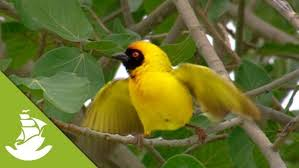target: (103, 34, 265, 143)
